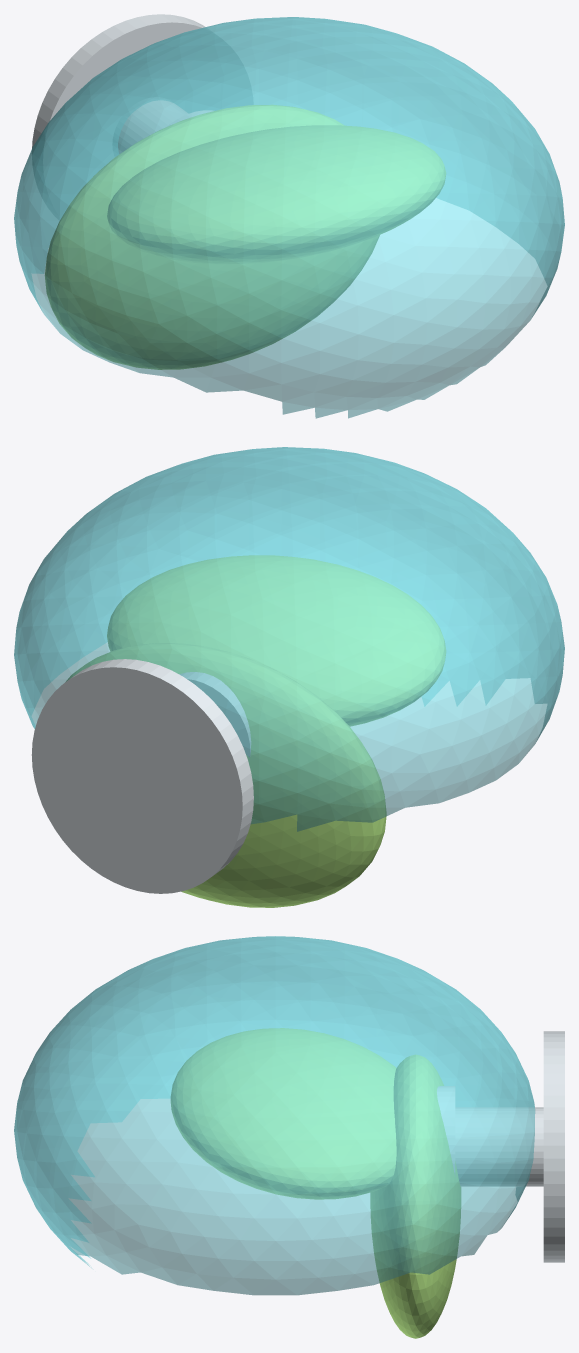
The model's file is aero-bubble-chair.glb.
3 views of the same model, one above another, from view 1: azimuth 30°, elevation 25°; view 2: azimuth 150°, elevation 25°; view 3: azimuth 270°, elevation 25° (orthographic). The views are drawn at different scales.
Parts seen in each view (by area): view 1: bubble_shell, seat_cushion, back_cushion, pedestal_base, pedestal_stem; view 2: bubble_shell, pedestal_base, back_cushion, seat_cushion, seat_connector; view 3: bubble_shell, back_cushion, seat_cushion, pedestal_stem, pedestal_base, seat_connector.
Boxes of the visible parts, <box> form: bubble_shell: <box>14,17,564,418</box>; seat_cushion: <box>45,105,379,369</box>; back_cushion: <box>107,125,445,263</box>; pedestal_base: <box>32,14,252,219</box>; pedestal_stem: <box>113,97,187,156</box>; bubble_shell: <box>14,447,564,831</box>; pedestal_base: <box>31,659,253,893</box>; back_cushion: <box>107,555,445,726</box>; seat_cushion: <box>66,643,386,907</box>; seat_connector: <box>179,672,250,757</box>; bubble_shell: <box>14,936,535,1295</box>; back_cushion: <box>171,1028,396,1199</box>; seat_cushion: <box>370,1054,460,1338</box>; pedestal_stem: <box>455,1107,543,1186</box>; pedestal_base: <box>543,1031,564,1262</box>; seat_connector: <box>437,1086,454,1173</box>.
Bounding box in the file's own units: 1.72 × 1.25 × 1.81.
